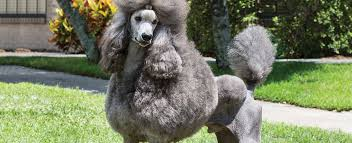Bulldog: (93, 1, 280, 143)
